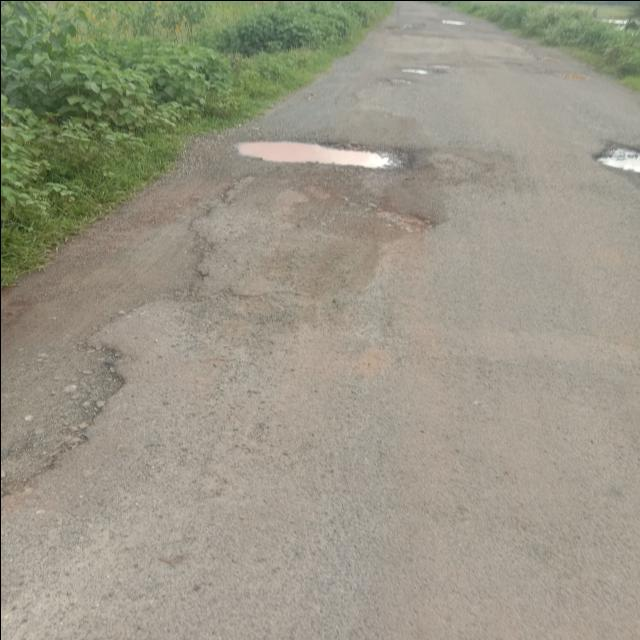potholes: (232, 134, 411, 167), (588, 138, 640, 180), (377, 60, 449, 84), (432, 14, 464, 30)
